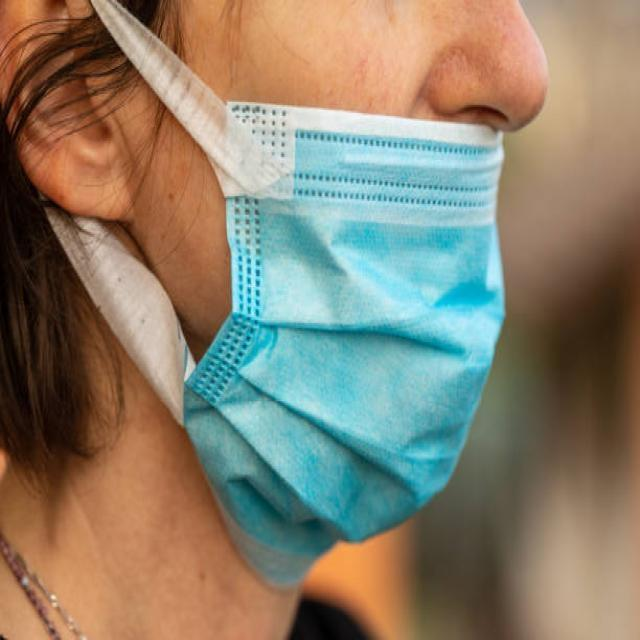hairnet: (0, 0, 558, 576)
